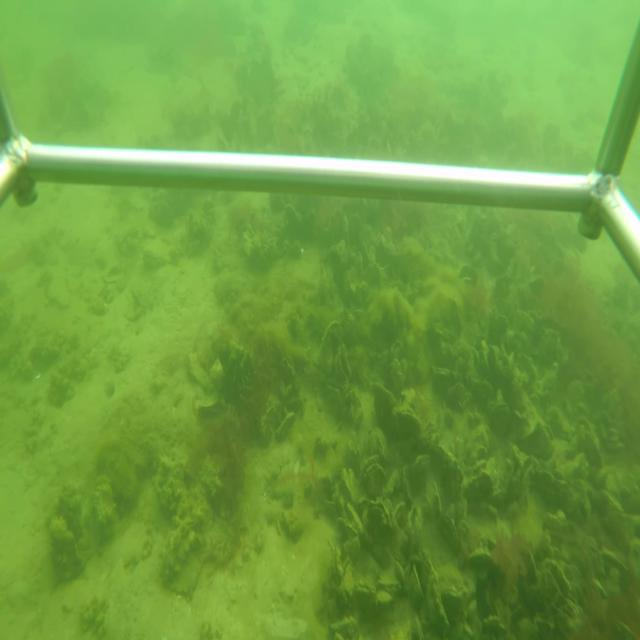Oyster-Closed: (418, 548, 450, 638), (429, 444, 465, 503), (401, 464, 425, 525), (390, 402, 423, 444), (439, 511, 460, 556), (597, 488, 620, 524), (432, 366, 455, 395), (389, 360, 405, 392), (376, 576, 403, 592), (355, 579, 377, 596)
Oyster-Indeterminate: (355, 495, 393, 548), (532, 466, 575, 512), (361, 462, 387, 496), (274, 411, 298, 443), (259, 405, 277, 446), (408, 563, 424, 608), (457, 263, 480, 291)
Oyster-Open: (540, 557, 572, 598), (488, 401, 512, 438), (334, 341, 354, 383)
